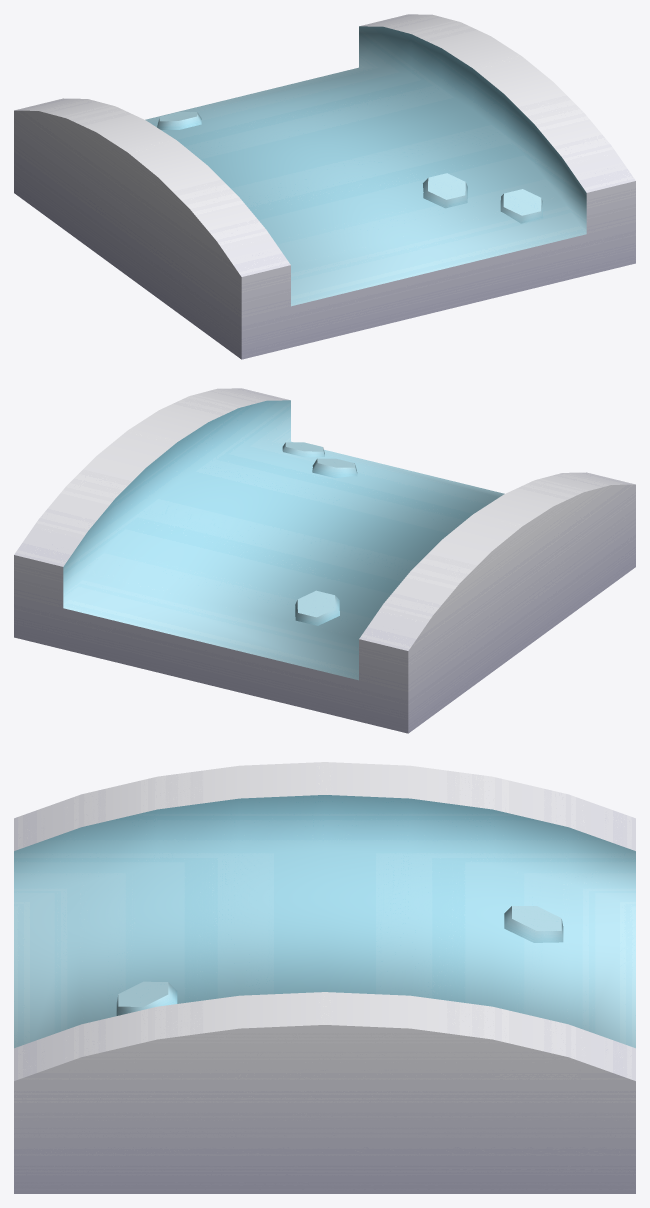
File: snow-tile-bump.glb
The picture shows the model from 3 angles, top to bottom: view 1: azimuth 30°, elevation 25°; view 2: azimuth 150°, elevation 25°; view 3: azimuth 270°, elevation 25°; orthographic projection. The views are drawn at different scales.
Visible parts, largest first — view 1: snow-tile-bump; view 2: snow-tile-bump; view 3: snow-tile-bump.
Part boxes in pixels (box(x1,y1,x2,y2)): snow-tile-bump: box(14, 14, 635, 359); snow-tile-bump: box(14, 388, 635, 733); snow-tile-bump: box(14, 762, 635, 1193).
Size of the model in its own units: 3 by 0.9 by 3.
Materials: 1 (1 with a texture image).
